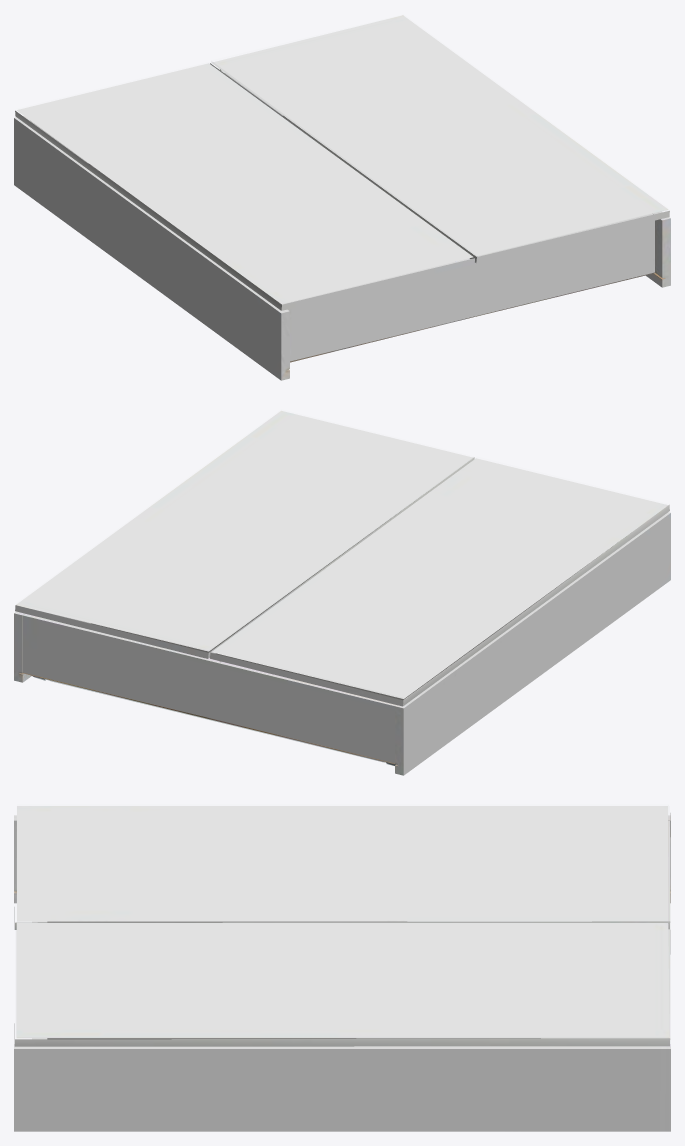
Rendered from 04 - LETTAN Mirror cabinet with doors - mirror effectmirror glass 80x15x95 cm.glb.
3 views of the same model, one above another, from view 1: azimuth 30°, elevation 25°; view 2: azimuth 150°, elevation 25°; view 3: azimuth 270°, elevation 25° (orthographic). The views are drawn at different scales.
Visible parts, largest first — view 1: ASY_ART_80534923_S01_NV01; view 2: ASY_ART_80534923_S01_NV01; view 3: ASY_ART_80534923_S01_NV01.
Boxes of the visible parts, x1,y1,x2,y2 form: ASY_ART_80534923_S01_NV01: (14,15,670,380); ASY_ART_80534923_S01_NV01: (14,410,670,775); ASY_ART_80534923_S01_NV01: (14,806,670,1131).
Bounding box in the file's own units: 0.8 × 0.152 × 0.95.
2 materials, 2 textured.
